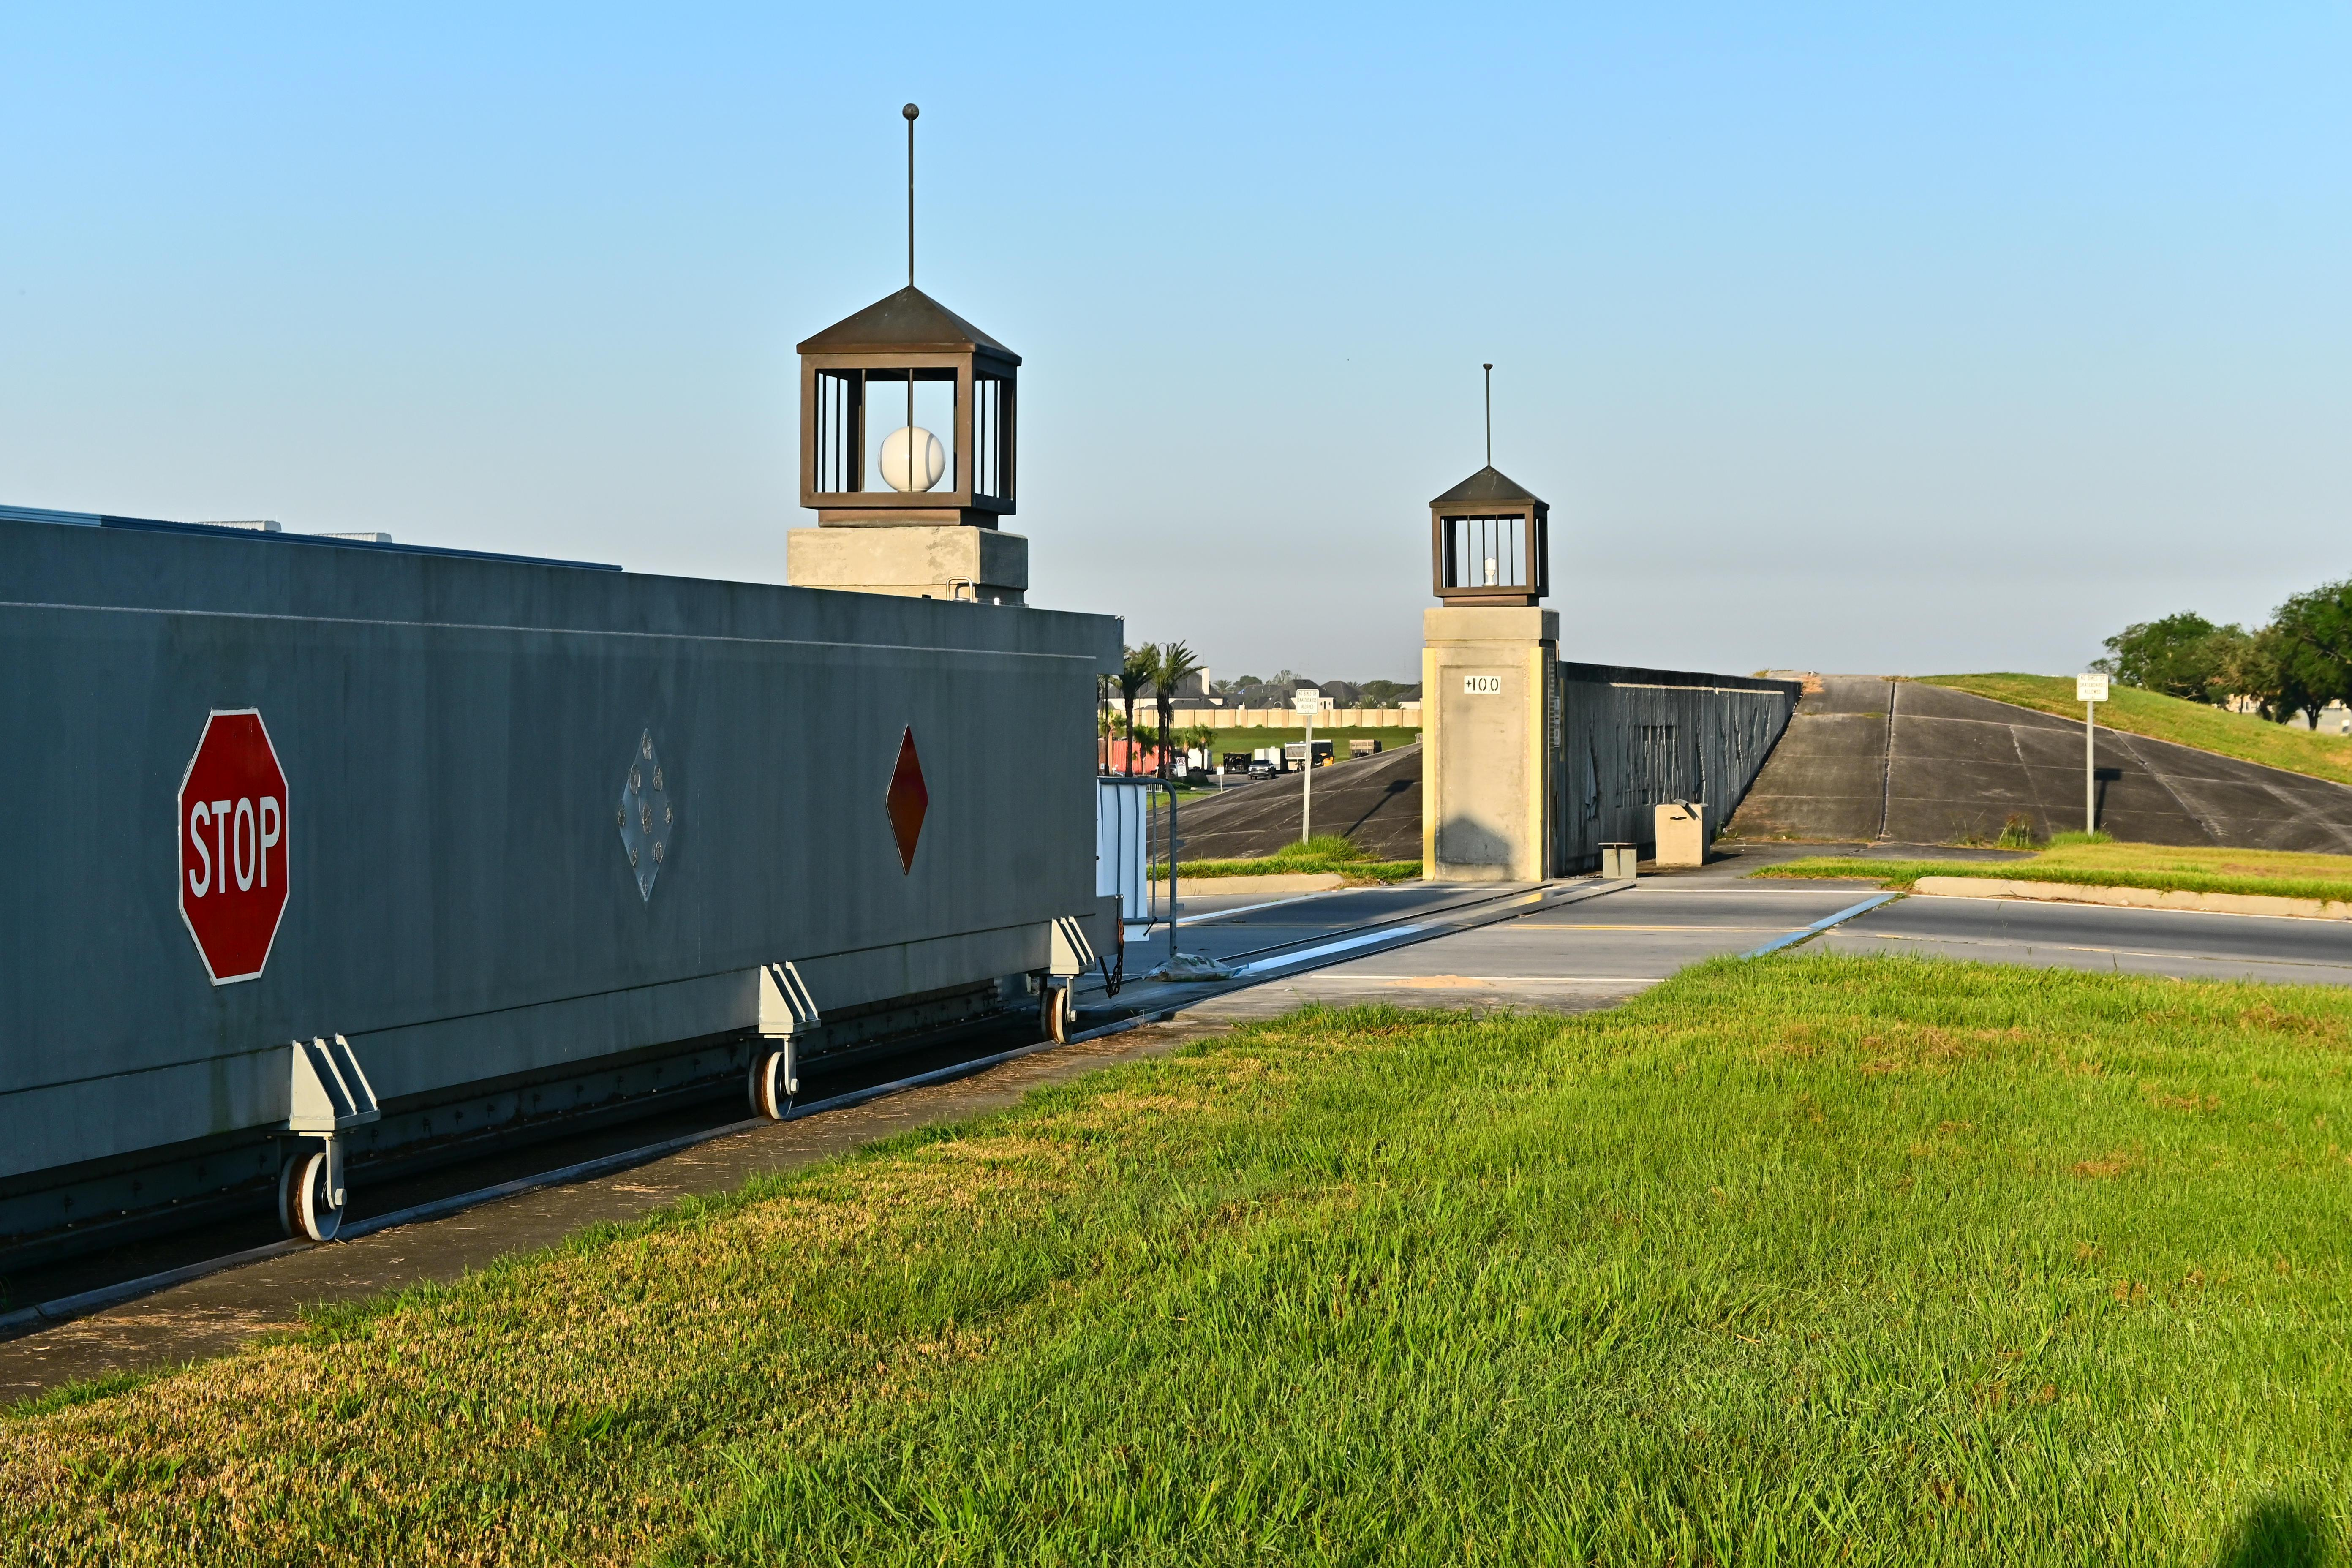affected: (2, 329, 1169, 1157)
